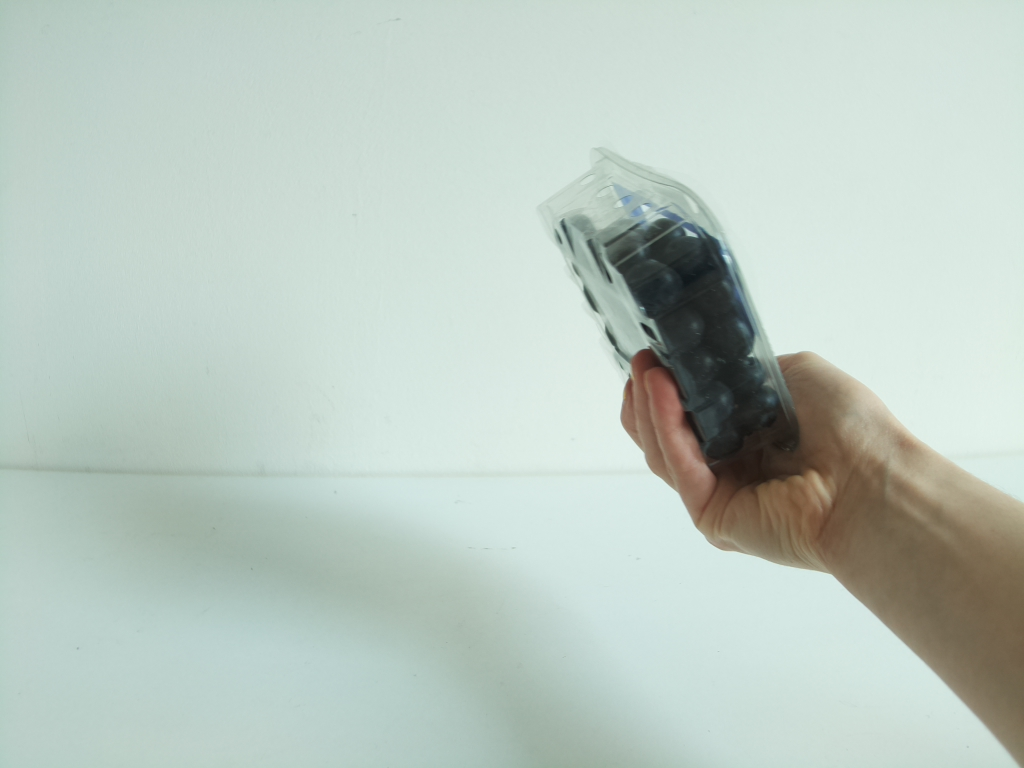soft-fruit: (538, 147, 810, 480)
